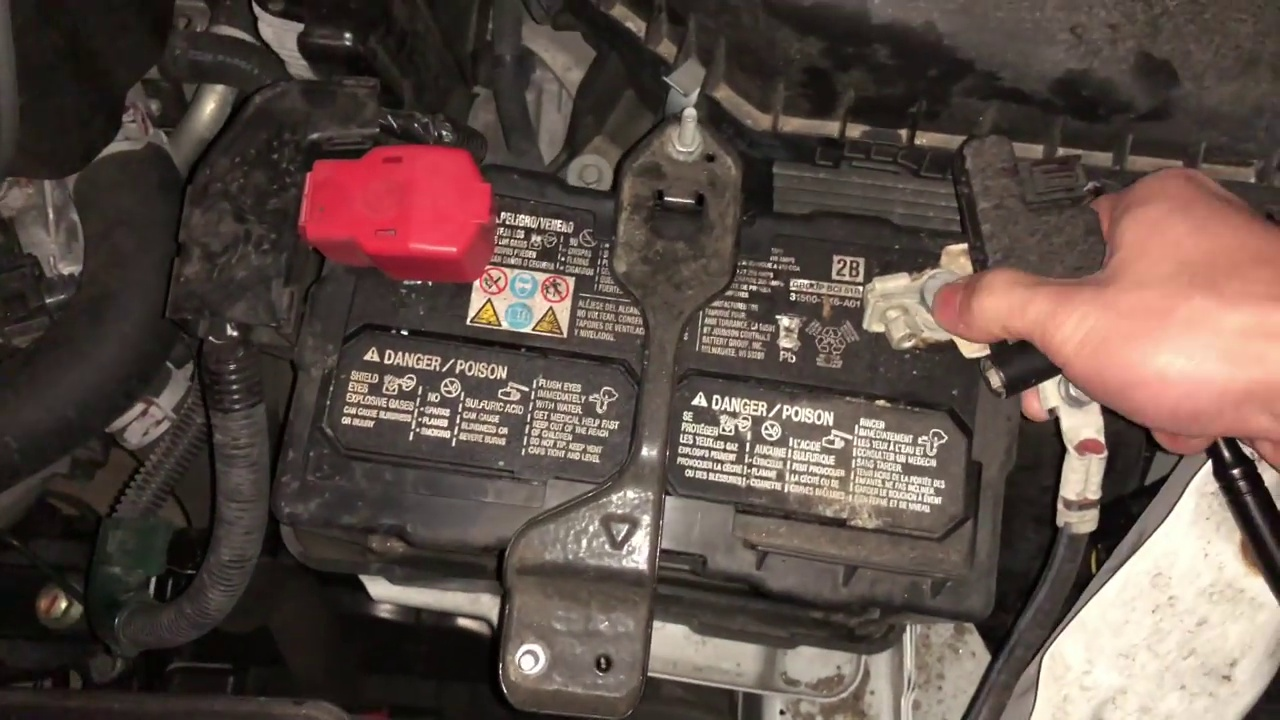battery: (290, 149, 1037, 624)
neg_touched: (819, 194, 1181, 389)
pos_connected: (262, 129, 510, 286)
